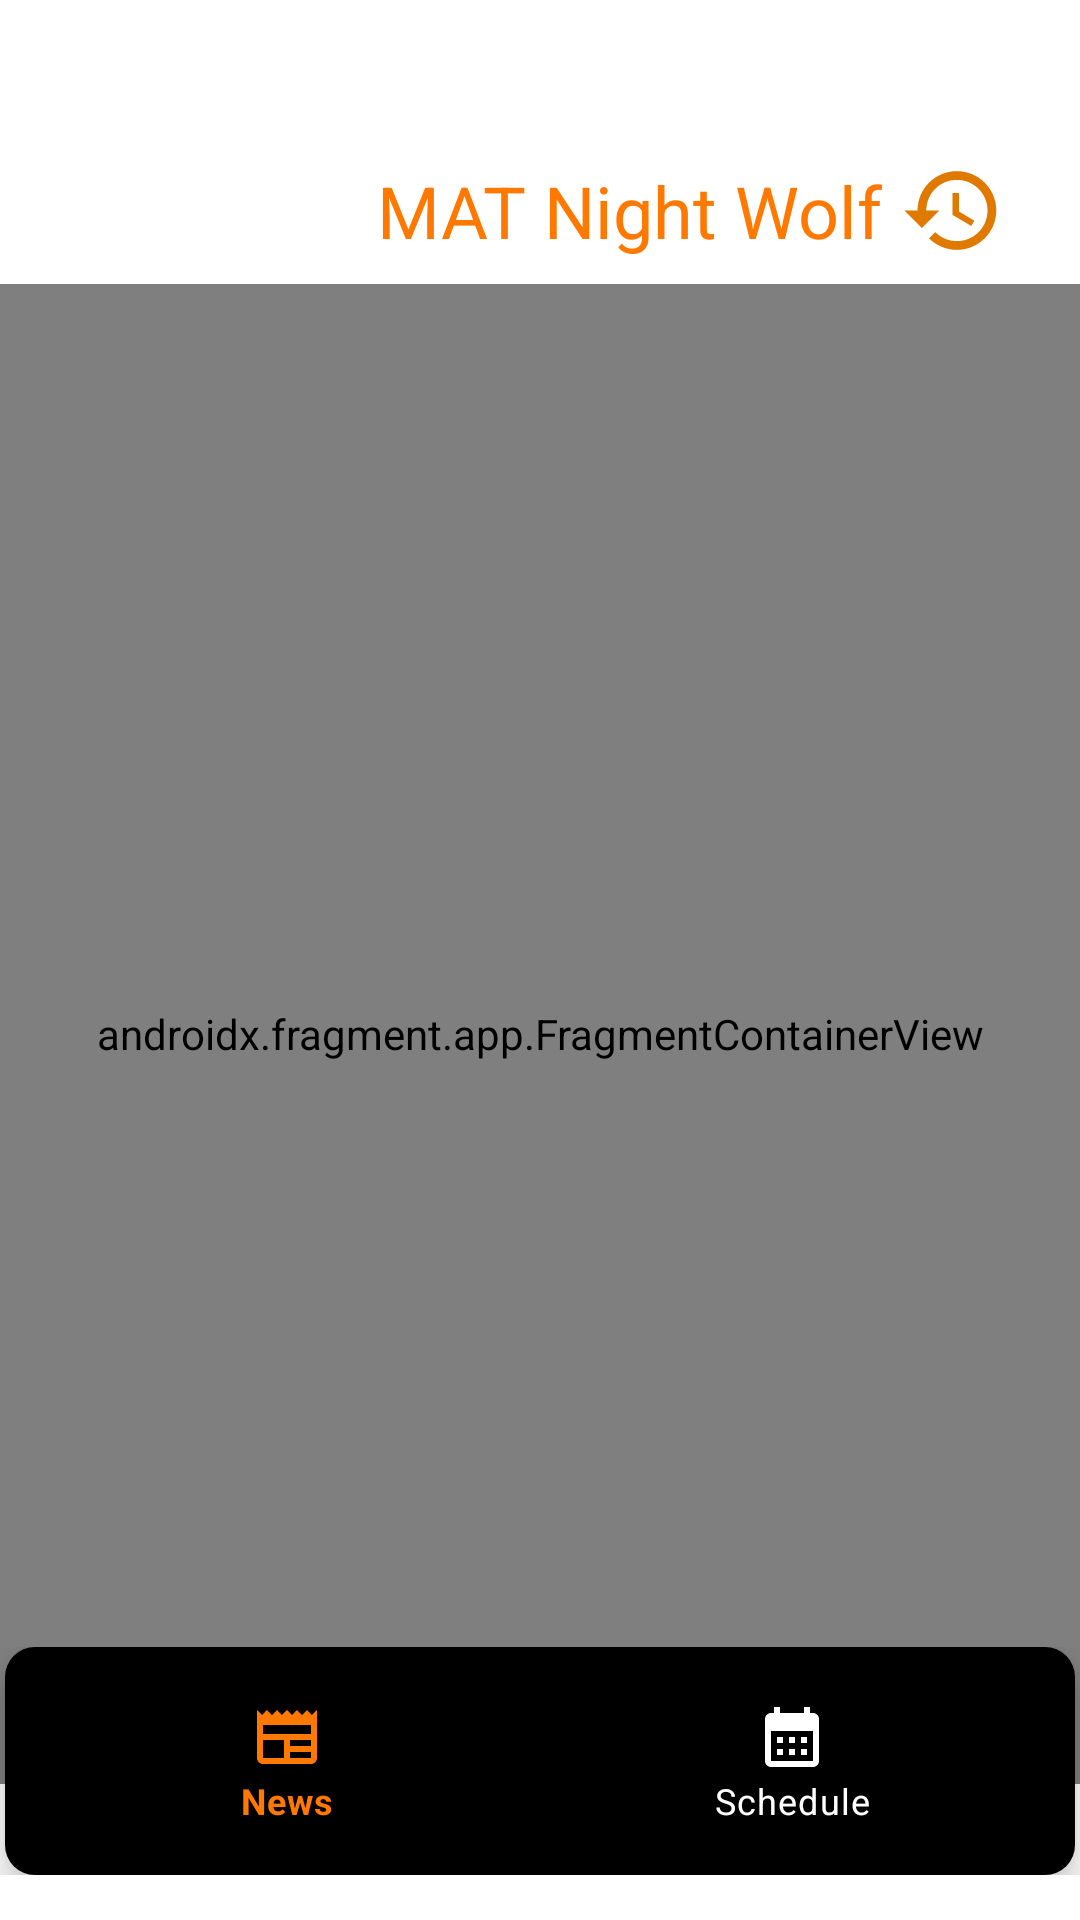

Screen size 1080x1920. Icon name, then its box in pixels as detection(x1, y1, x2, y2):
history: detection(904, 171, 997, 250)
